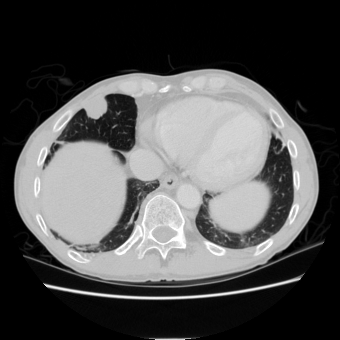nodule: (85, 97, 107, 119)
